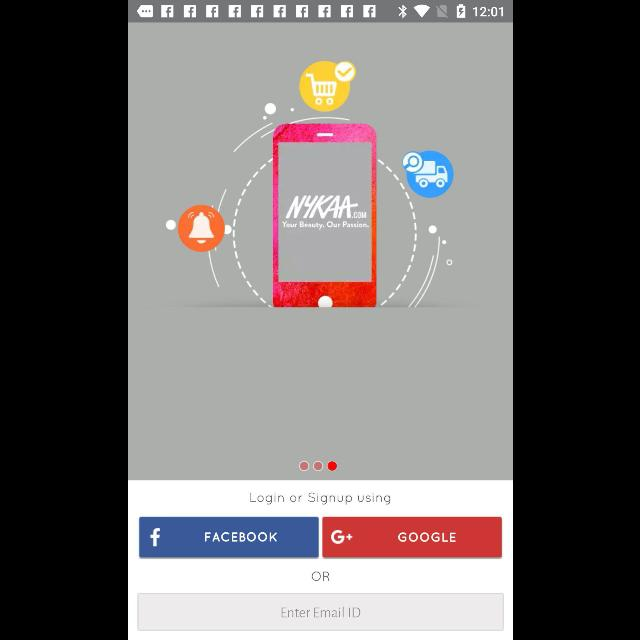image: (164, 60, 453, 308)
input: (137, 593, 503, 631)
pageindicator: (298, 461, 338, 472)
text: (249, 493, 389, 505), (280, 606, 360, 618), (311, 571, 329, 581)
textbutton: (138, 517, 318, 559), (322, 517, 500, 559)
uppertaskbar: (128, 1, 512, 23)
